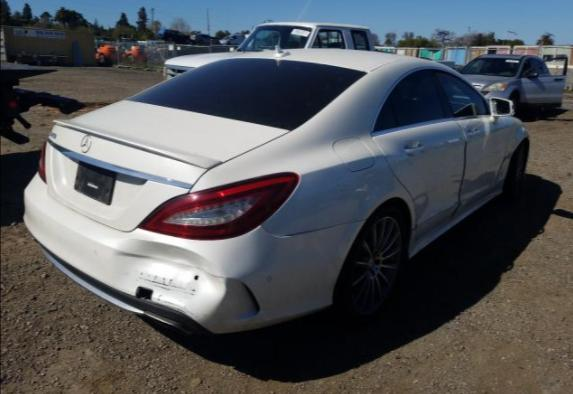Broken part: (26, 224, 217, 334), (258, 218, 366, 240)
Dent: (115, 240, 226, 317), (407, 165, 463, 223), (455, 156, 502, 217)
Missing part: (75, 162, 115, 202), (135, 286, 153, 301), (193, 275, 198, 281)
Paint chip: (265, 275, 271, 281)
Scratch: (138, 272, 196, 295)
